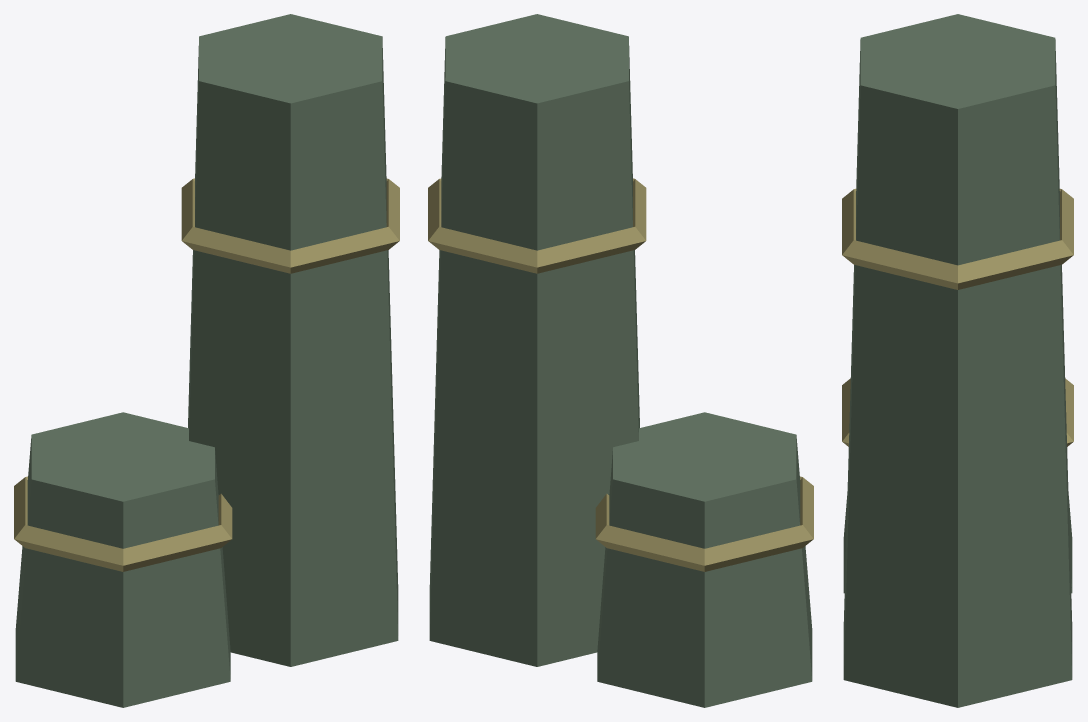
The model's file is map-boundaries-v5__ruins_01.glb.
3 renders of one model, left to right at view 1: azimuth 30°, elevation 25°; view 2: azimuth 150°, elevation 25°; view 3: azimuth 270°, elevation 25°, orthographic. The views are drawn at different scales.
Visible parts, largest first — view 1: ruins_01; view 2: ruins_01; view 3: ruins_01.
Boxes of the visible parts, <box> form: ruins_01: <box>14,14,399,707</box>; ruins_01: <box>428,14,813,707</box>; ruins_01: <box>842,14,1073,707</box>.
Size of the model in its own units: 1.22 by 1.68 by 0.5975.
